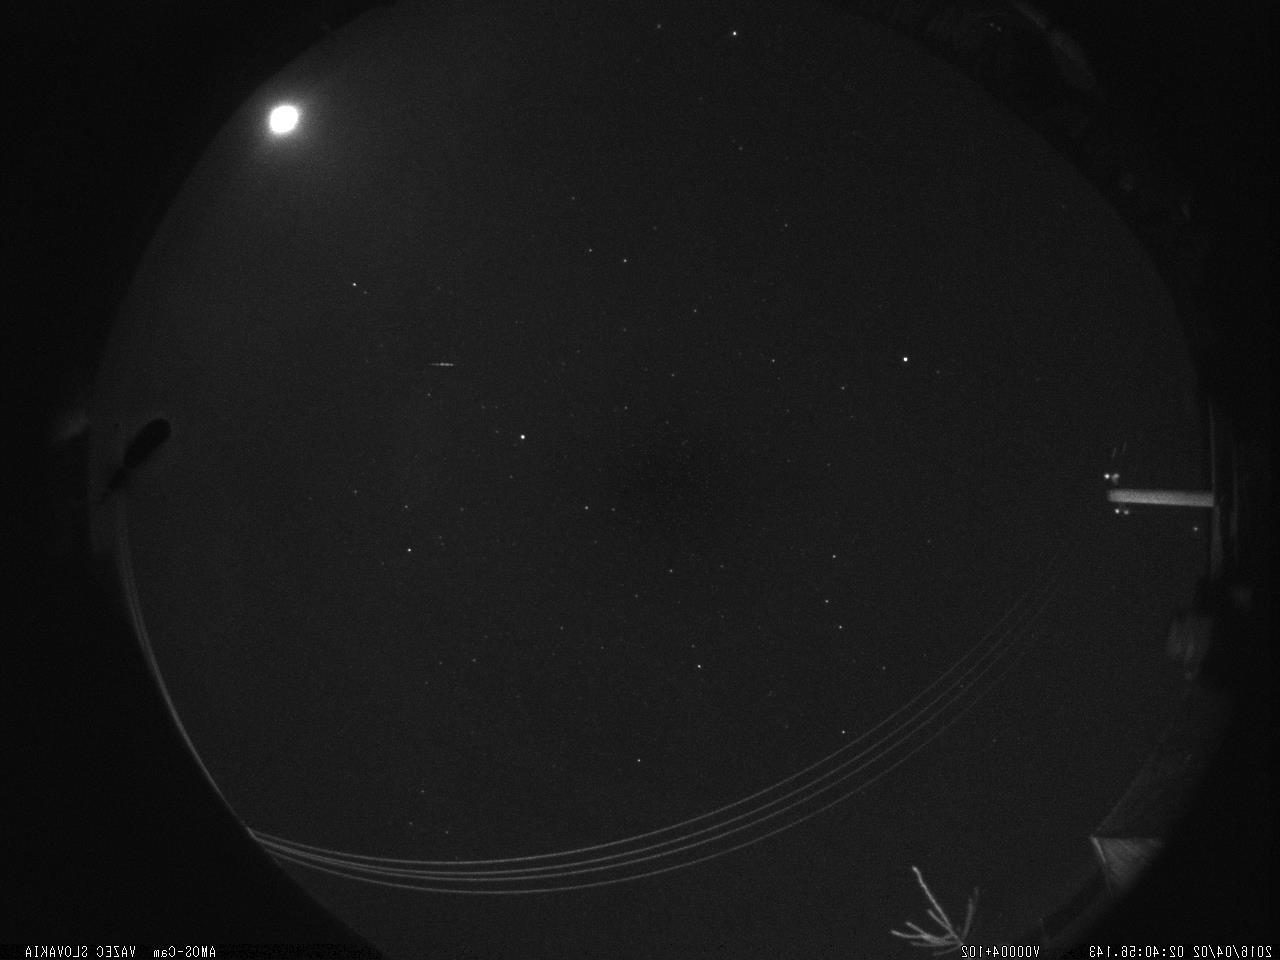meteor: (420, 353, 462, 381)
